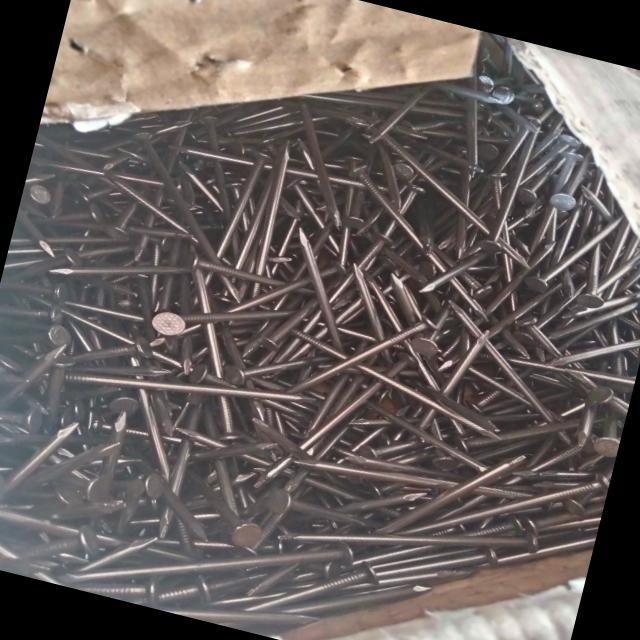3x10 nail: (267, 270, 449, 440), (420, 92, 558, 282), (178, 116, 310, 310)
